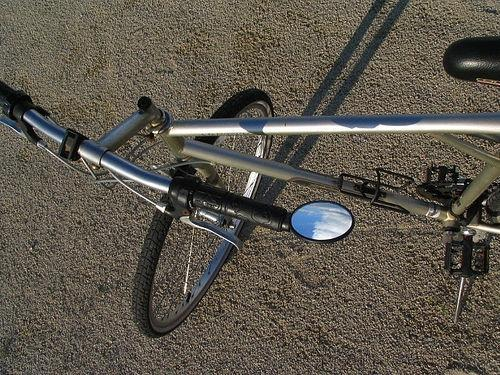bicycle: (1, 34, 500, 332)
